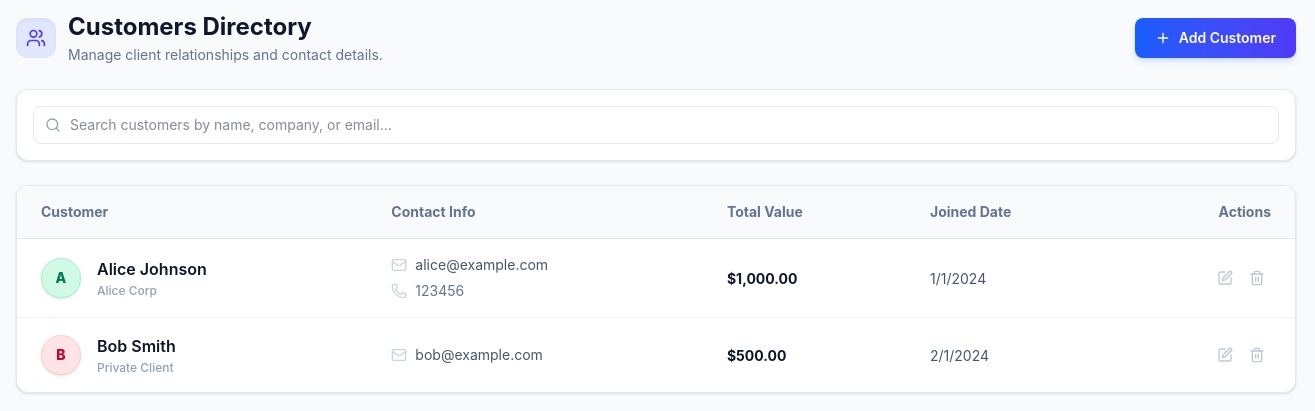
Test case: Customers Component › filters customers by search term
expect the text "Alice Johnson" is shown: met, box [97,257,207,281]
Type "Bob" into the field with placeholder "Search customers by name, company, or email..." at {"x": 656, "y": 125}, box [33,106,1279,144]
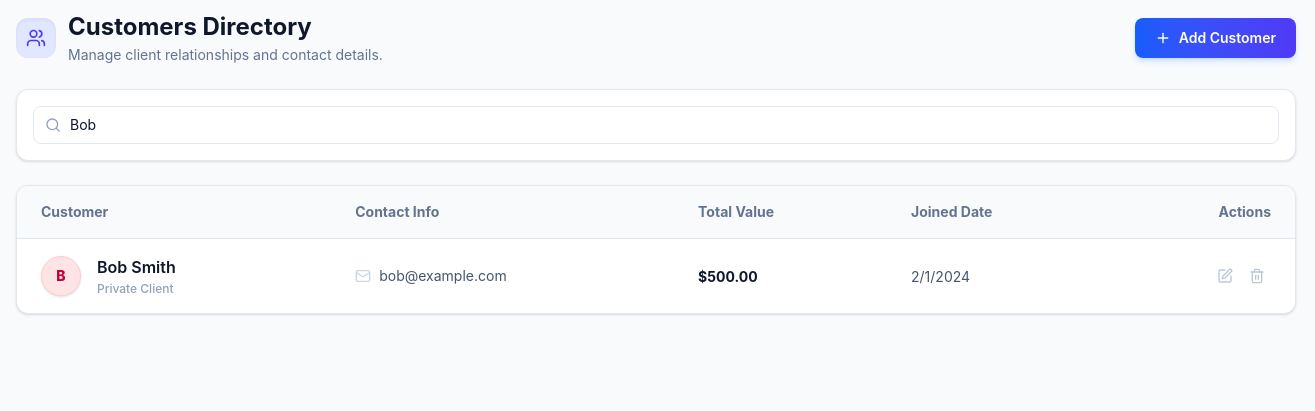
expect the text "Bob Smith" is shown: met, box [97,255,176,279]
expect the text "Alice Johnson" is gone: met
